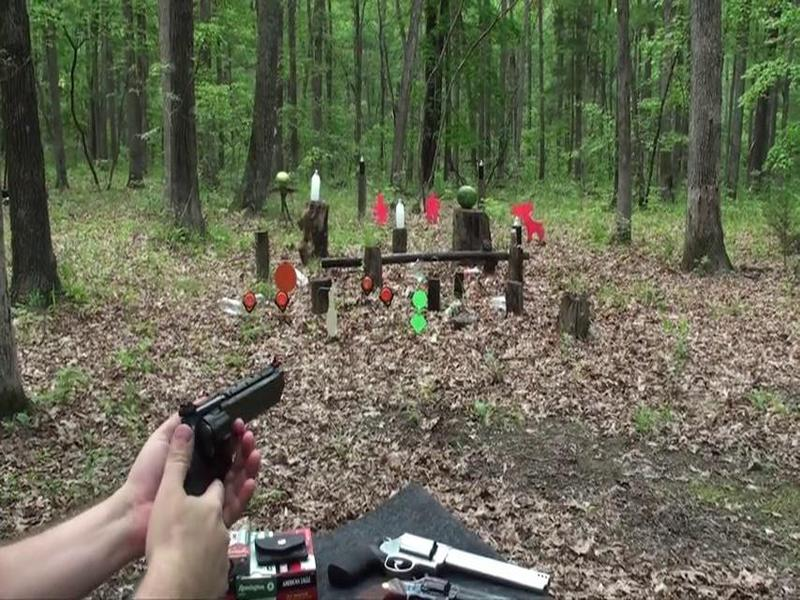Revolver: (146, 344, 310, 491)
